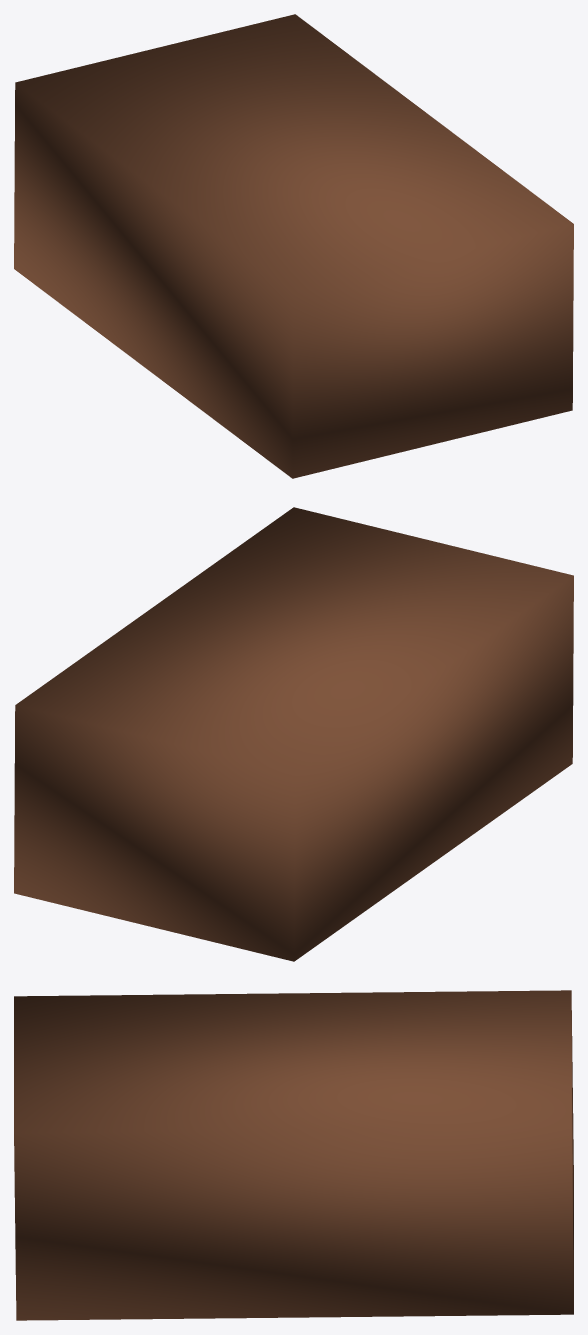
Rendered from SM_W02_Climber_Foot_L.fbx.
3 views of the same model, one above another, from view 1: azimuth 30°, elevation 25°; view 2: azimuth 150°, elevation 25°; view 3: azimuth 270°, elevation 25° (orthographic).
Parts seen in each view (by area): view 1: SM_W02_Climber_Foot_L; view 2: SM_W02_Climber_Foot_L; view 3: SM_W02_Climber_Foot_L.
Boxes of the visible parts, box(x1,y1,x2,y2) form: SM_W02_Climber_Foot_L: box(14, 14, 573, 478); SM_W02_Climber_Foot_L: box(14, 507, 573, 961); SM_W02_Climber_Foot_L: box(14, 990, 573, 1320).
Size of the model in its own units: 0.18 by 0.3113 by 0.1186.
